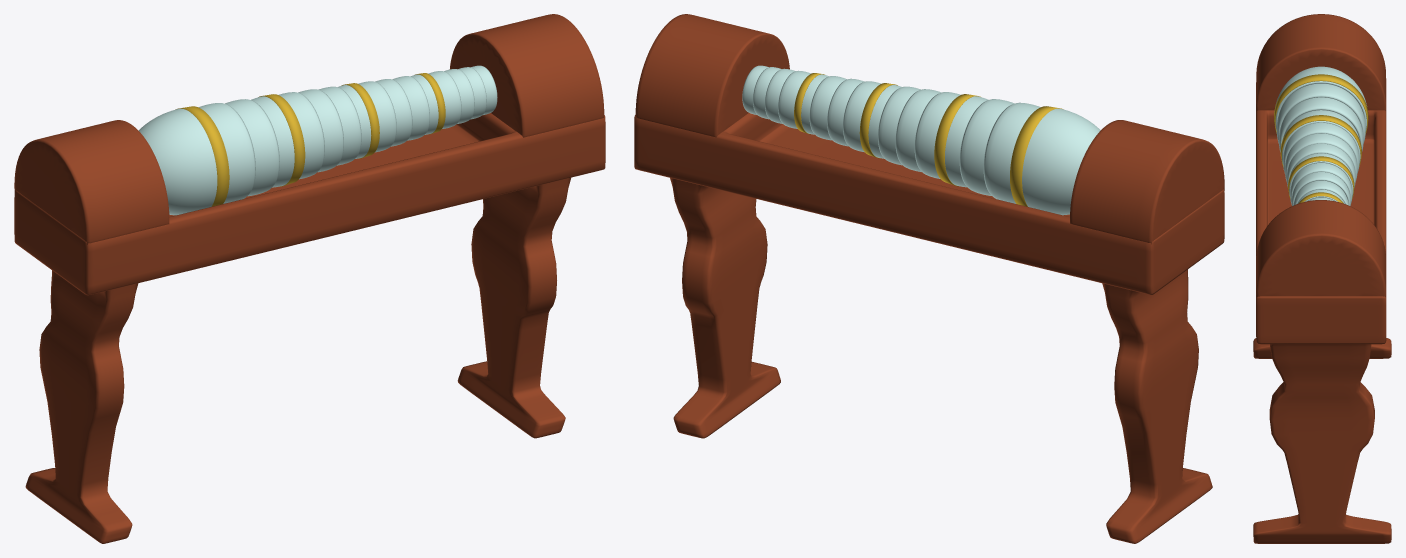
The model's file is glassarmonica.fbx.
3 views of the same model, side by side, from view 1: azimuth 30°, elevation 25°; view 2: azimuth 150°, elevation 25°; view 3: azimuth 270°, elevation 25° (orthographic). The views are drawn at different scales.
Visible parts, largest first — view 1: Cube, Sphere, Sphere.001, Sphere.002, Sphere.004, Sphere.005, Sphere.003, Sphere.006, Sphere.016, Sphere.008, Sphere.010, Sphere.009 (+5 smaller); view 2: Cube, Sphere, Sphere.001, Sphere.002, Sphere.004, Sphere.005, Sphere.003, Sphere.006, Sphere.016, Sphere.008, Sphere.010, Sphere.009 (+5 smaller); view 3: Cube, Sphere.001, Sphere.002, Sphere, Sphere.004, Sphere.005, Sphere.016, Sphere.006, Sphere.003, Sphere.008, Sphere.017, Sphere.009 (+5 smaller).
Boxes of the visible parts, x1=… form: Cube: x1=14, y1=14, x2=605, y2=543; Sphere: x1=138, y1=108, x2=217, y2=215; Sphere.001: x1=198, y1=103, x2=255, y2=203; Sphere.002: x1=225, y1=99, x2=279, y2=196; Sphere.004: x1=279, y1=92, x2=324, y2=179; Sphere.005: x1=298, y1=89, x2=343, y2=172; Sphere.003: x1=251, y1=96, x2=294, y2=187; Sphere.006: x1=318, y1=86, x2=361, y2=165; Sphere.016: x1=175, y1=106, x2=229, y2=206; Sphere.008: x1=358, y1=81, x2=396, y2=152; Sphere.010: x1=392, y1=76, x2=429, y2=140; Sphere.009: x1=375, y1=79, x2=412, y2=146; Cube: x1=634, y1=14, x2=1224, y2=543; Sphere: x1=1022, y1=108, x2=1100, y2=215; Sphere.001: x1=983, y1=102, x2=1040, y2=203; Sphere.002: x1=959, y1=99, x2=1014, y2=195; Sphere.004: x1=914, y1=92, x2=960, y2=178; Sphere.005: x1=895, y1=89, x2=941, y2=171; Sphere.003: x1=945, y1=96, x2=988, y2=187; Sphere.006: x1=878, y1=86, x2=920, y2=165; Sphere.016: x1=1010, y1=106, x2=1063, y2=206; Sphere.008: x1=843, y1=81, x2=881, y2=152; Sphere.010: x1=809, y1=76, x2=846, y2=140; Sphere.009: x1=827, y1=78, x2=864, y2=146; Cube: x1=1253, y1=14, x2=1391, y2=543; Sphere.001: x1=1276, y1=83, x2=1365, y2=143; Sphere.002: x1=1278, y1=97, x2=1363, y2=152; Sphere: x1=1275, y1=66, x2=1367, y2=130; Sphere.004: x1=1283, y1=122, x2=1359, y2=173; Sphere.005: x1=1285, y1=133, x2=1357, y2=181; Sphere.016: x1=1274, y1=74, x2=1368, y2=134; Sphere.006: x1=1286, y1=143, x2=1355, y2=187; Sphere.003: x1=1282, y1=110, x2=1360, y2=164; Sphere.008: x1=1290, y1=163, x2=1352, y2=204; Sphere.017: x1=1280, y1=115, x2=1361, y2=167; Sphere.009: x1=1291, y1=172, x2=1350, y2=205.
Size of the model in its own units: 806 by 557 by 212.
